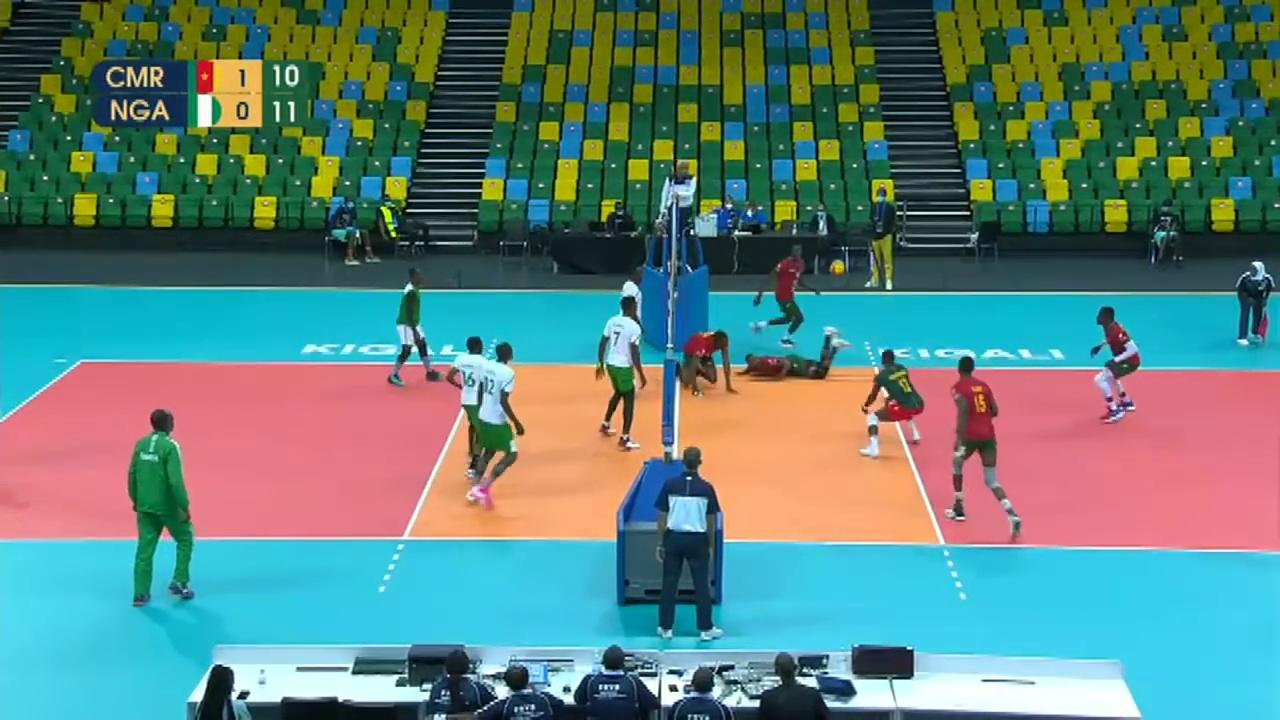player: (946, 360, 1030, 534), (466, 341, 528, 516), (594, 286, 653, 448), (739, 321, 854, 389), (445, 331, 498, 476), (858, 353, 925, 457), (1088, 303, 1138, 419), (754, 246, 810, 346), (392, 269, 430, 383), (676, 326, 734, 396)
refree: (653, 442, 722, 644), (659, 157, 701, 251), (1235, 259, 1276, 349)
